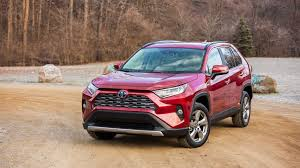car: (70, 32, 258, 153)
